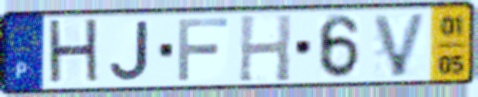6: (316, 12, 365, 81)
F: (175, 16, 231, 83)
H: (236, 12, 295, 84), (45, 16, 103, 88)
J: (107, 19, 152, 83)
V: (371, 10, 431, 79)
